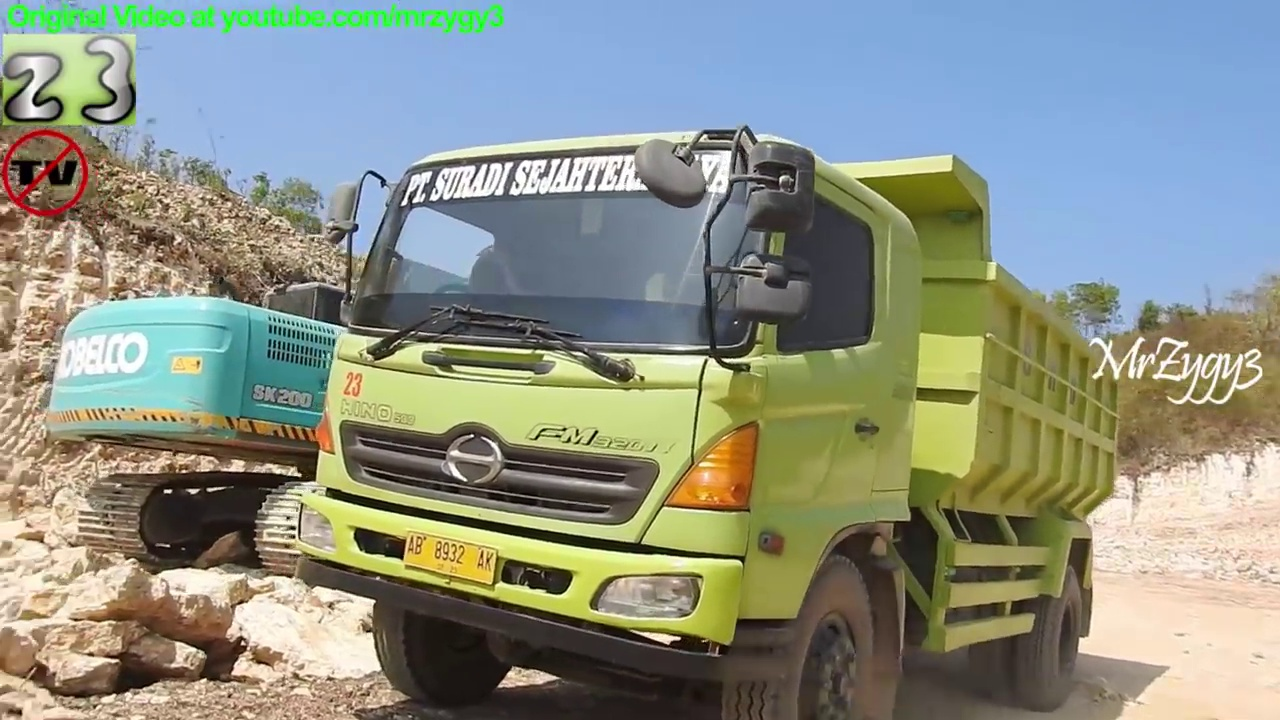excavator: (31, 220, 853, 598)
truck: (284, 117, 1129, 720)
